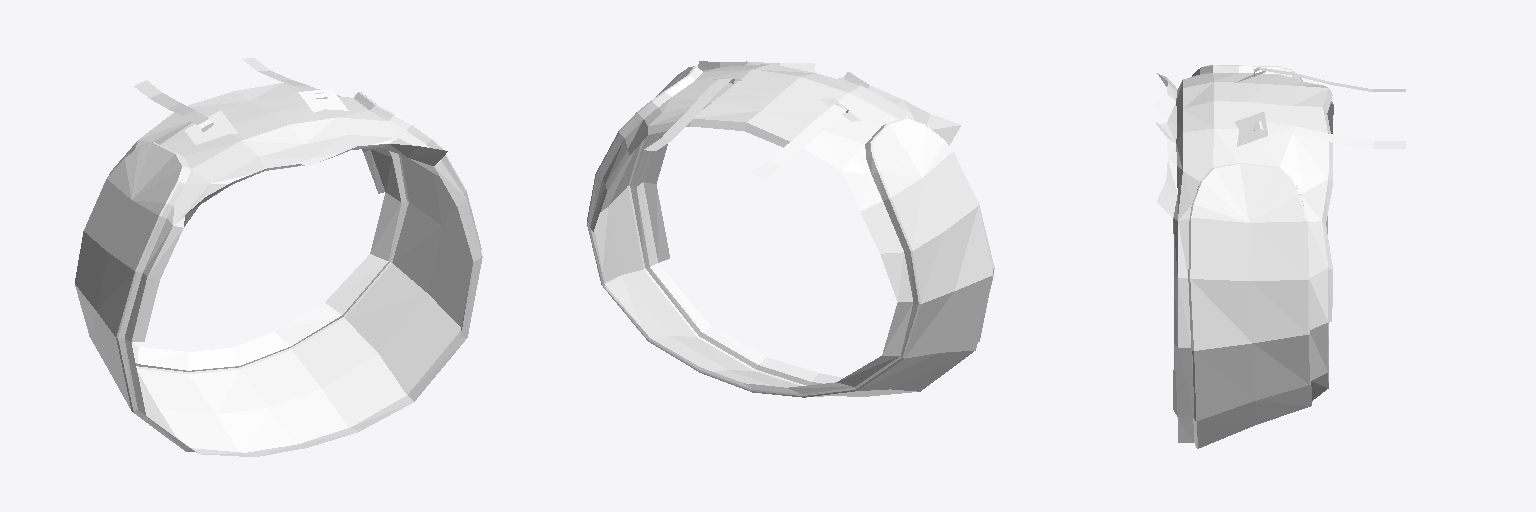
The model's file is mdl2fe.obj.
3 views of the same model, side by side, from view 1: azimuth 30°, elevation 25°; view 2: azimuth 150°, elevation 25°; view 3: azimuth 270°, elevation 25° (orthographic).
Visible parts, largest first — view 1: mdl2.004; view 2: mdl2.004; view 3: mdl2.004.
Boxes of the visible parts, <box> form: mdl2.004: <box>75,58,482,456</box>; mdl2.004: <box>587,61,994,397</box>; mdl2.004: <box>1154,65,1405,448</box>.
Bounding box in the file's own units: 27.99 × 23.7 × 16.74.